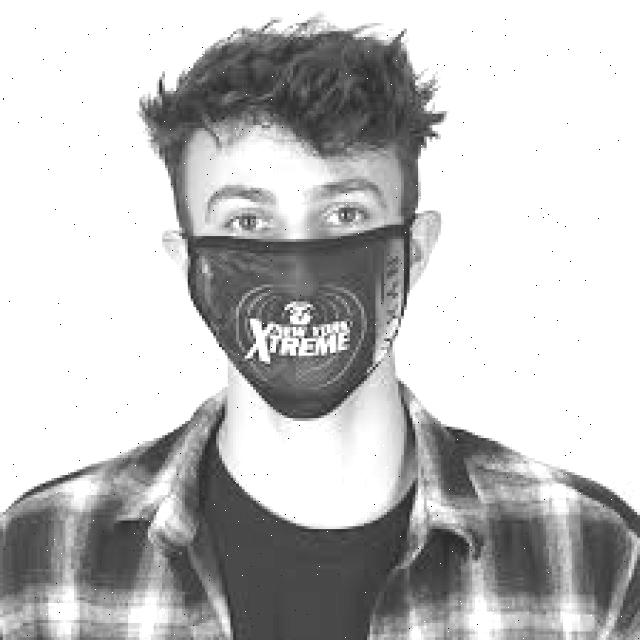fake: (144, 208, 445, 434)
real: (179, 125, 405, 433)
